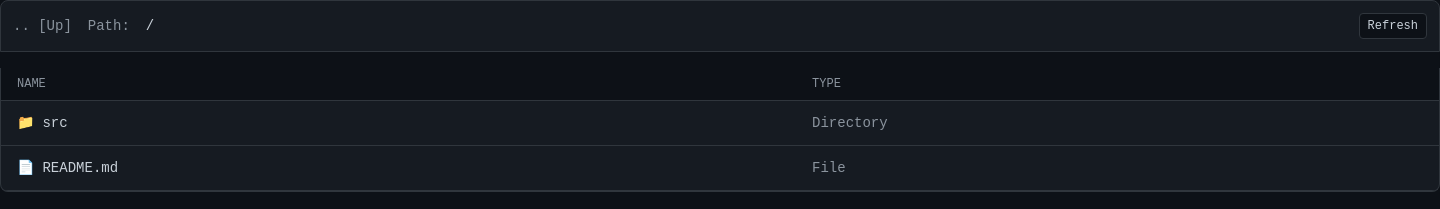
it: FileBrowser › renders files and navigates directories
This screenshot has width=1440, height=209.
Check: the text "README.md" is shown, box [42,158,118,178]
Click the text "src".
click(55, 123)  # box [42,113,68,133]
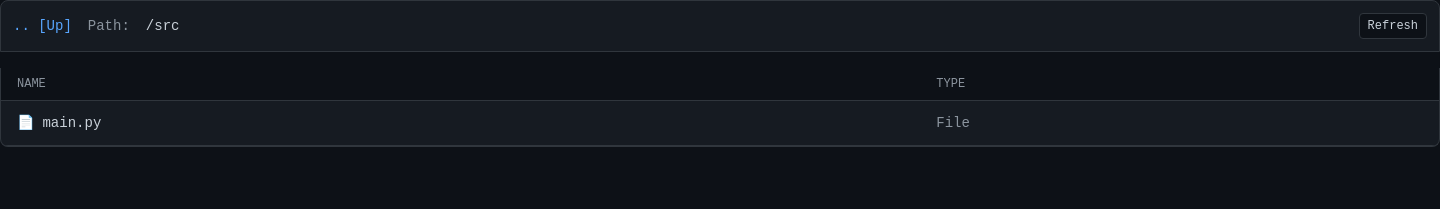
Check: the text "main.py" is shown, box [42,113,101,133]
Check: the text "README.md" is gone
